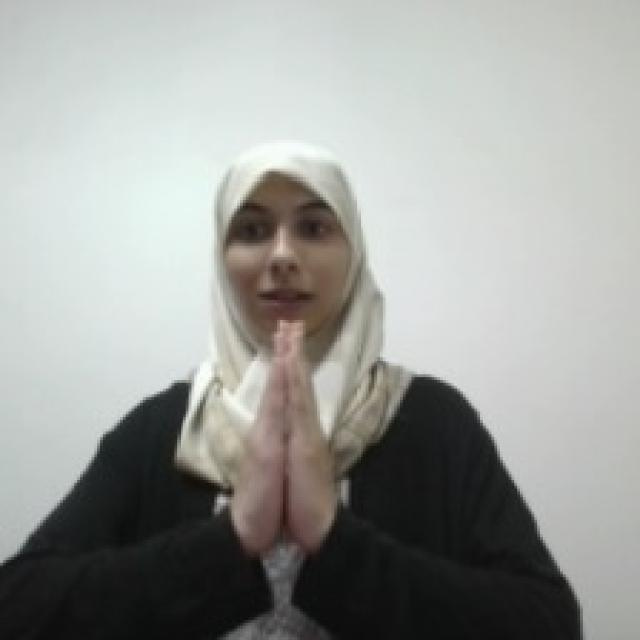sorry: (228, 316, 345, 547)
